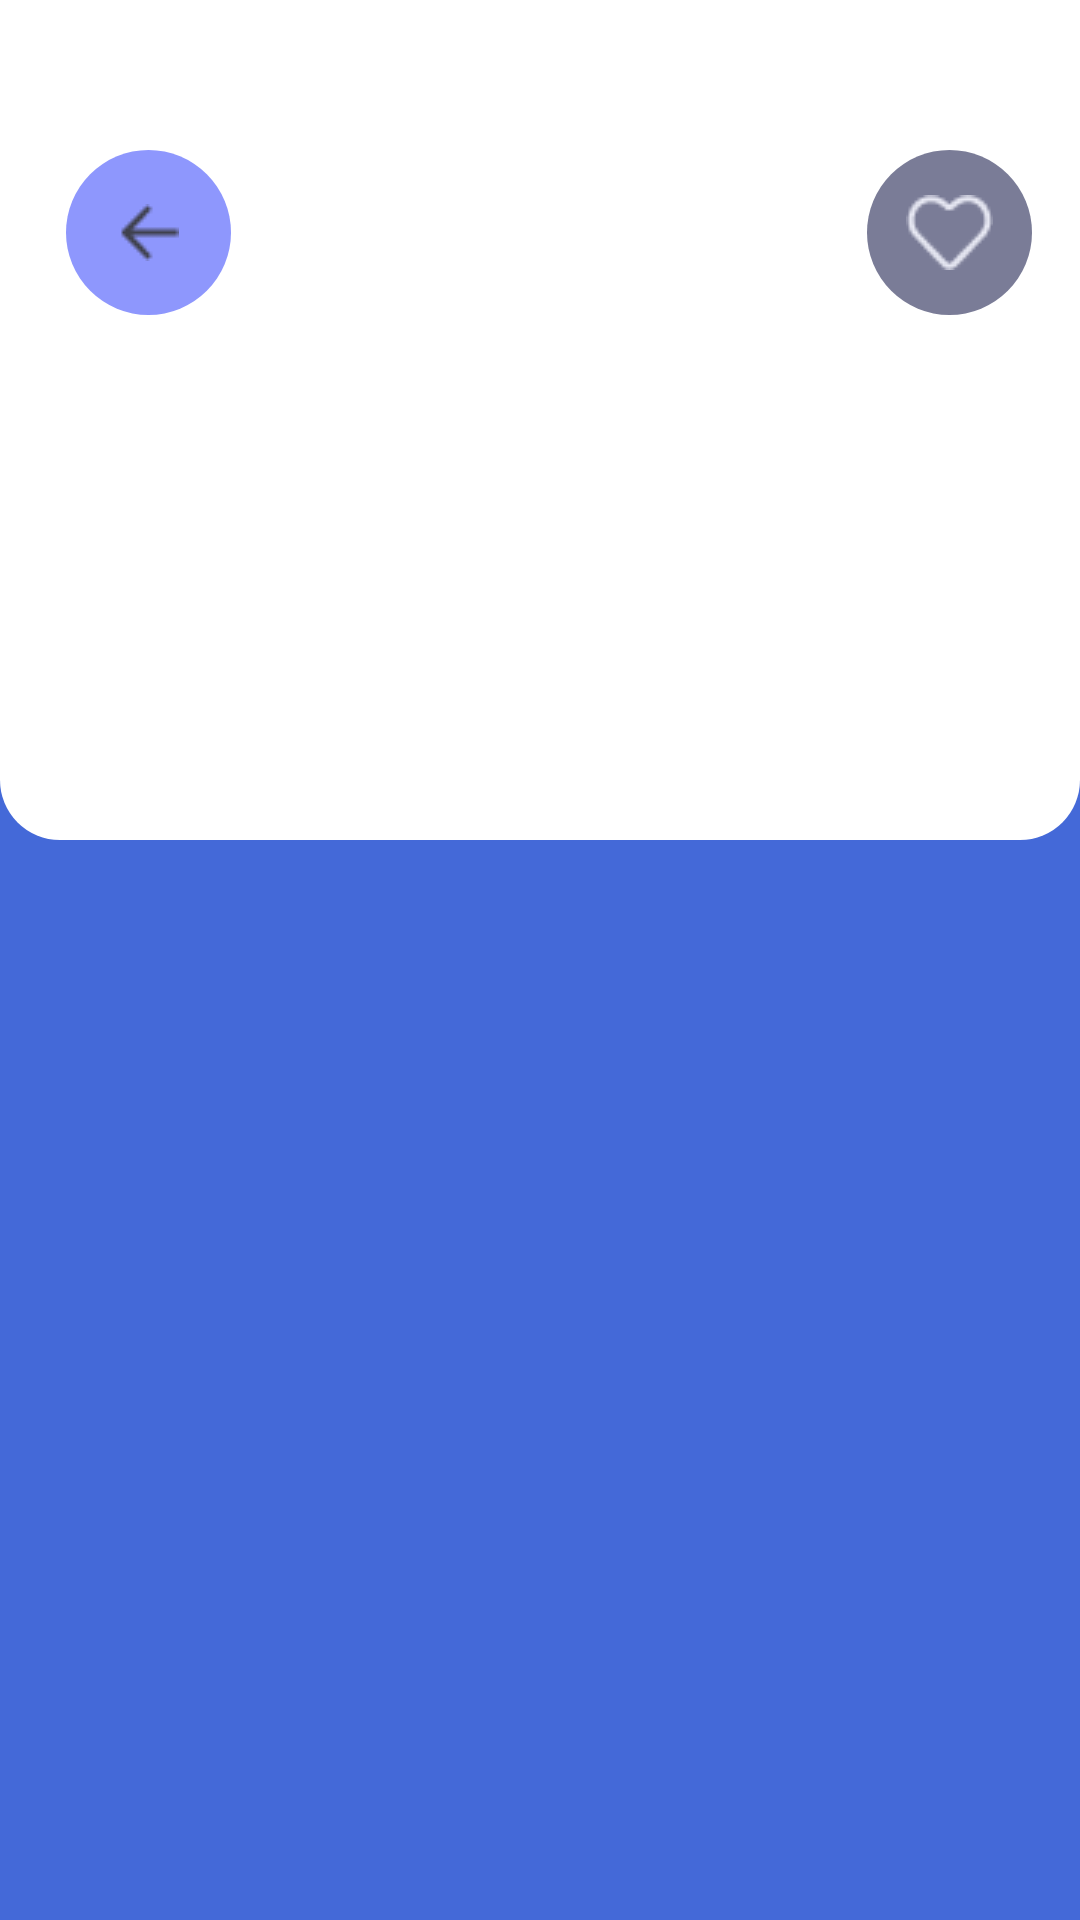

Icons on this 1080×1920 Android screen, each with its box as bbox=[x1, y1, x2, y2]:
arrow back: bbox=[66, 150, 231, 315]
heart disslike: bbox=[867, 150, 1032, 315]
